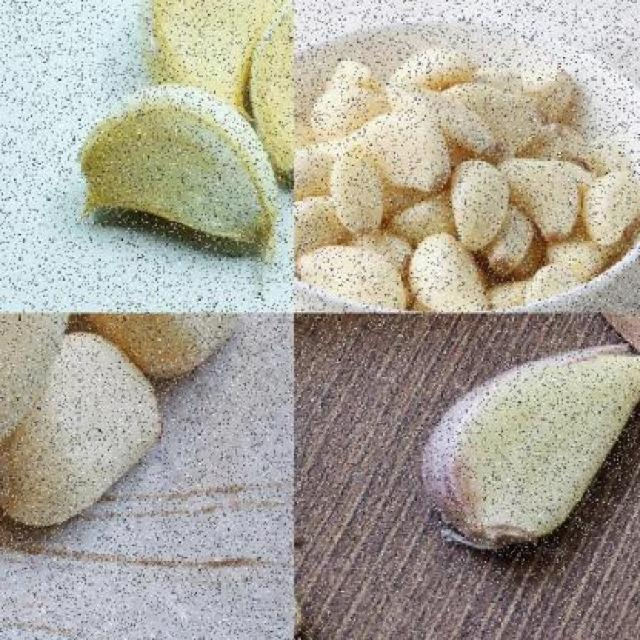garlic: (294, 50, 638, 312), (0, 312, 249, 568), (430, 346, 639, 559), (71, 76, 294, 250), (143, 0, 292, 138), (247, 0, 292, 212), (556, 313, 638, 409), (500, 158, 583, 237), (447, 154, 514, 251)
